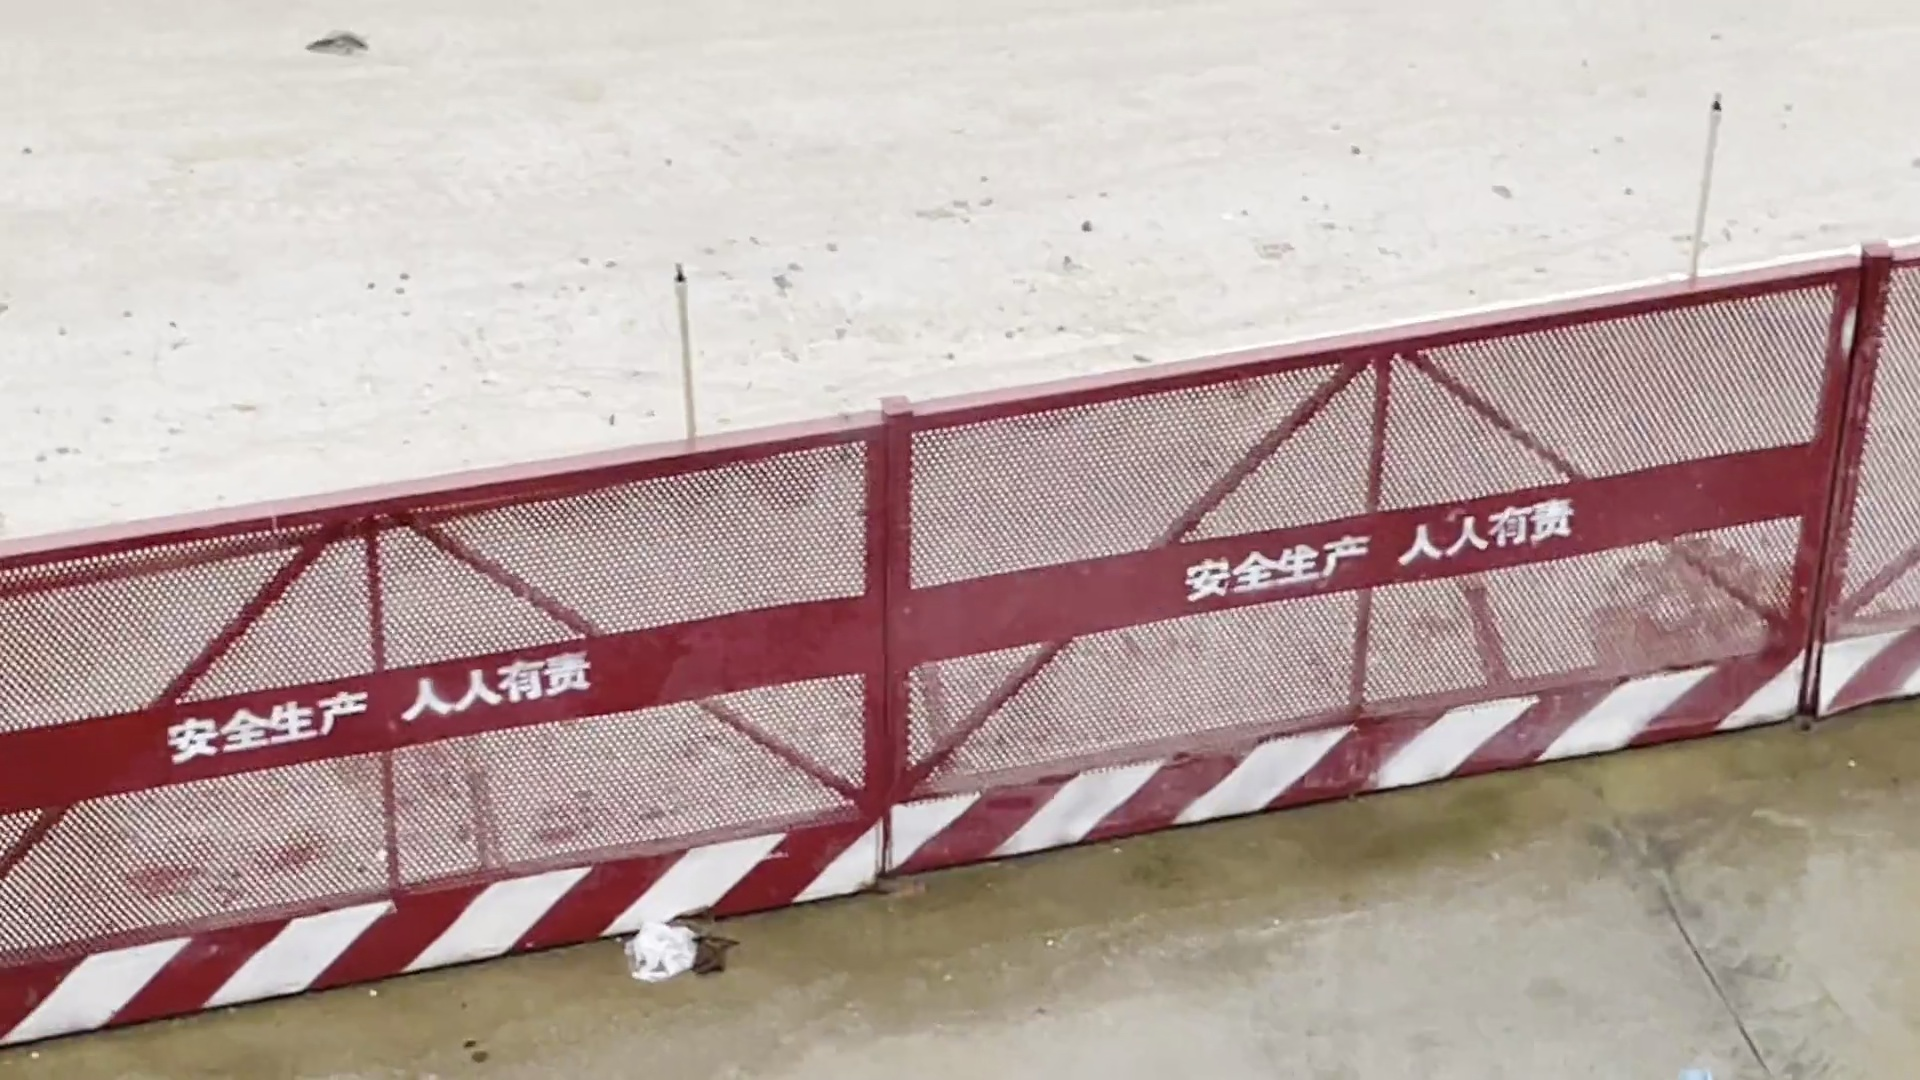fence: (1, 343, 1844, 1033)
